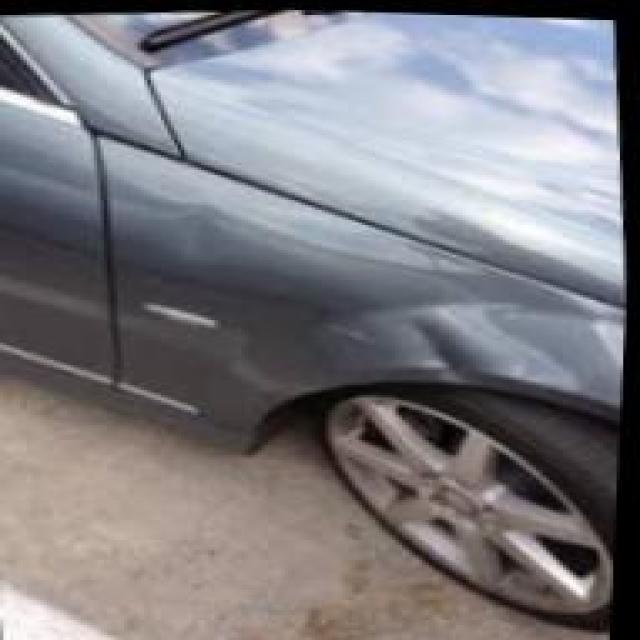Fender: (87, 122, 637, 479)
